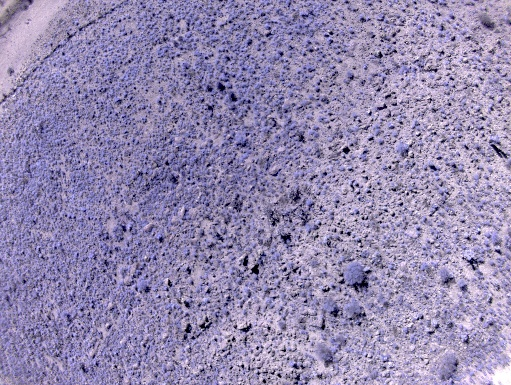agave: (456, 277, 469, 292), (217, 71, 232, 83), (286, 356, 298, 369), (243, 36, 255, 49), (386, 258, 396, 271), (218, 45, 230, 54), (305, 199, 316, 208), (225, 79, 234, 90), (357, 13, 366, 23), (325, 36, 335, 45), (263, 23, 273, 32), (275, 48, 285, 57), (272, 53, 282, 62), (242, 289, 252, 298), (346, 70, 355, 80), (88, 249, 96, 260), (262, 284, 270, 294), (427, 159, 435, 169), (156, 232, 164, 242), (311, 131, 321, 139), (236, 298, 244, 308), (305, 225, 313, 234), (113, 96, 121, 105), (328, 63, 337, 71), (202, 297, 211, 305), (118, 30, 127, 38), (155, 97, 163, 106), (401, 326, 409, 334), (304, 37, 312, 45), (183, 78, 191, 86), (307, 128, 315, 136), (182, 248, 190, 256), (213, 58, 221, 66), (457, 165, 465, 173), (386, 122, 395, 129), (227, 267, 234, 276), (377, 138, 385, 145), (314, 85, 322, 92), (121, 91, 129, 98), (316, 218, 322, 227), (295, 67, 302, 74), (347, 166, 353, 173), (175, 51, 181, 57), (163, 286, 169, 292), (309, 94, 314, 101)
